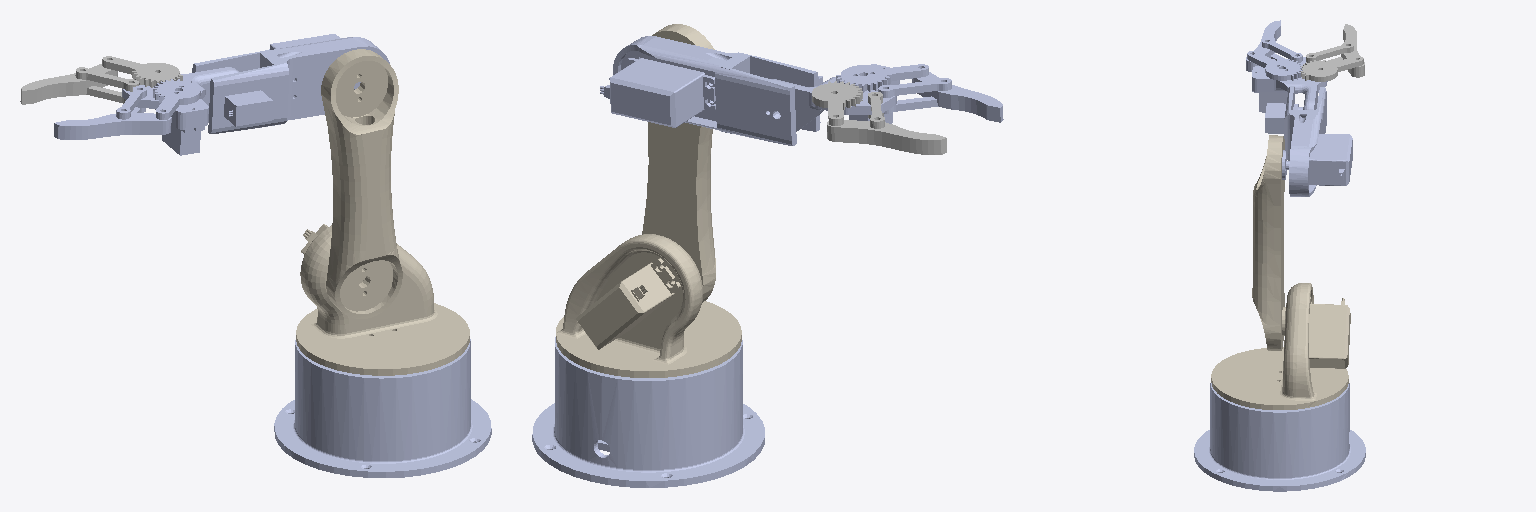
robot.urdf — roboticarm_desc:
<?xml version="1.0" encoding="utf-8"?>
<!-- This URDF was automatically created by SolidWorks to URDF Exporter! Originally created by Stephen Brawner (brawner@gmail.com) 
     Commit Version: 1.6.0-4-g7f85cfe  Build Version: 1.6.7995.38578
     For more information, please see http://wiki.ros.org/sw_urdf_exporter -->
<robot
  name="roboticarm_desc">
  <link
    name="base_link">
    <inertial>
      <origin
        xyz="-1.74565115521112E-08 0.000952884303413011 0.0221505545989223"
        rpy="0 0 0" />
      <mass
        value="0.0946962180846406" />
      <inertia
        ixx="0.000135059011662809"
        ixy="-3.74631591816118E-11"
        ixz="-1.84579557269977E-12"
        iyy="0.000128557317669127"
        iyz="3.85016392647366E-06"
        izz="0.000205655215325431" />
    </inertial>
    <visual>
      <origin
        xyz="0 0 0"
        rpy="0 0 0" />
      <geometry>
        <mesh
          filename="package://roboticarm_desc/meshes/base_link.STL" />
      </geometry>
      <material
        name="">
        <color
          rgba="0.792156862745098 0.819607843137255 0.933333333333333 1" />
      </material>
    </visual>
    <collision>
      <origin
        xyz="0 0 0"
        rpy="0 0 0" />
      <geometry>
        <mesh
          filename="package://roboticarm_desc/meshes/base_link.STL" />
      </geometry>
    </collision>
  </link>
  <link
    name="link_1">
    <inertial>
      <origin
        xyz="0.000831323898337343 0.00454672482986223 0.00190351834728859"
        rpy="0 0 0" />
      <mass
        value="2.066908638872" />
      <inertia
        ixx="5.93109549248364E-05"
        ixy="-6.73127407715459E-06"
        ixz="-5.80295277136355E-07"
        iyy="6.52041562002642E-05"
        iyz="-6.58179347262941E-06"
        izz="7.27757911682154E-05" />
    </inertial>
    <visual>
      <origin
        xyz="0 0 0"
        rpy="0 0 0" />
      <geometry>
        <mesh
          filename="package://roboticarm_desc/meshes/link_1.STL" />
      </geometry>
      <material
        name="">
        <color
          rgba="0.843137254901961 0.815686274509804 0.752941176470588 1" />
      </material>
    </visual>
    <collision>
      <origin
        xyz="0 0 0"
        rpy="0 0 0" />
      <geometry>
        <mesh
          filename="package://roboticarm_desc/meshes/link_1.STL" />
      </geometry>
    </collision>
  </link>
  <joint
    name="joint_1"
    type="revolute">
    <origin
      xyz="0 0 0.0574"
      rpy="1.5708 0 3.0761" />
    <parent
      link="base_link" />
    <child
      link="link_1" />
    <axis
      xyz="0 1 0" />
    <limit
      lower="-3.142"
      upper="3.142"
      effort="300"
      velocity="3" />
  </joint>
  <link
    name="link_2">
    <inertial>
      <origin
        xyz="-0.00230701090313169 0.025152631684603 -0.0370544089765316"
        rpy="0 0 0" />
      <mass
        value="0.0985691492518185" />
      <inertia
        ixx="0.000113580940734067"
        ixy="1.95408708762653E-07"
        ixz="1.85894731817726E-06"
        iyy="0.000116780844668397"
        iyz="-2.45203634952698E-07"
        izz="1.70145460046509E-05" />
    </inertial>
    <visual>
      <origin
        xyz="0 0 0"
        rpy="0 0 0" />
      <geometry>
        <mesh
          filename="package://roboticarm_desc/meshes/link_2.STL" />
      </geometry>
      <material
        name="">
        <color
          rgba="0.843137254901961 0.815686274509804 0.752941176470588 1" />
      </material>
    </visual>
    <collision>
      <origin
        xyz="0 0 0"
        rpy="0 0 0" />
      <geometry>
        <mesh
          filename="package://roboticarm_desc/meshes/link_2.STL" />
      </geometry>
    </collision>
  </link>
  <joint
    name="joint_2"
    type="revolute">
    <origin
      xyz="0.01391 0.04028 -0.02"
      rpy="1.5708 0 -0.026125" />
    <parent
      link="link_1" />
    <child
      link="link_2" />
    <axis
      xyz="0 -1 0" />
    <limit
      lower="-1.57"
      upper="1.57"
      effort="200"
      velocity="3" />
  </joint>
  <link
    name="link_3">
    <inertial>
      <origin
        xyz="0.0119274145245473 0.0281765061774894 4.69192763711268E-05"
        rpy="0 0 0" />
      <mass
        value="0.0714902683975526" />
      <inertia
        ixx="1.30083784905906E-05"
        ixy="5.89357510363436E-07"
        ixz="-5.2024675595863E-08"
        iyy="4.65154633143084E-05"
        iyz="-2.68276088899909E-09"
        izz="4.70864710905405E-05" />
    </inertial>
    <visual>
      <origin
        xyz="0 0 0"
        rpy="0 0 0" />
      <geometry>
        <mesh
          filename="package://roboticarm_desc/meshes/link_3.STL" />
      </geometry>
      <material
        name="">
        <color
          rgba="0.792156862745098 0.819607843137255 0.933333333333333 1" />
      </material>
    </visual>
    <collision>
      <origin
        xyz="0 0 0"
        rpy="0 0 0" />
      <geometry>
        <mesh
          filename="package://roboticarm_desc/meshes/link_3.STL" />
      </geometry>
    </collision>
  </link>
  <joint
    name="joint_3"
    type="revolute">
    <origin
      xyz="0.010223 0.0684 -0.12074"
      rpy="-3.1416 0.072029 0" />
    <parent
      link="link_2" />
    <child
      link="link_3" />
    <axis
      xyz="0 1 0" />
    <limit
      lower="-1.5708"
      upper="1.5708"
      effort="200"
      velocity="3" />
  </joint>
  <link
    name="link_4">
    <inertial>
      <origin
        xyz="0.00844737677424334 0.00467043133983275 0.0170044090379459"
        rpy="0 0 0" />
      <mass
        value="0.0238931999541876" />
      <inertia
        ixx="7.60188798036556E-06"
        ixy="-4.14365108627786E-07"
        ixz="-1.933109545339E-06"
        iyy="1.02338809467779E-05"
        iyz="-1.31602817133816E-06"
        izz="4.29933795885179E-06" />
    </inertial>
    <visual>
      <origin
        xyz="0 0 0"
        rpy="0 0 0" />
      <geometry>
        <mesh
          filename="package://roboticarm_desc/meshes/link_4.STL" />
      </geometry>
      <material
        name="">
        <color
          rgba="0.792156862745098 0.819607843137255 0.933333333333333 1" />
      </material>
    </visual>
    <collision>
      <origin
        xyz="0 0 0"
        rpy="0 0 0" />
      <geometry>
        <mesh
          filename="package://roboticarm_desc/meshes/link_4.STL" />
      </geometry>
    </collision>
  </link>
  <joint
    name="joint_4"
    type="revolute">
    <origin
      xyz="0.06545 0.04032 -5.0936E-05"
      rpy="1.5789 0 1.5708" />
    <parent
      link="link_3" />
    <child
      link="link_4" />
    <axis
      xyz="-1 0 0" />
    <limit
      lower="-1.5708"
      upper="1.5708"
      effort="200"
      velocity="3" />
  </joint>
  <link
    name="link_5">
    <inertial>
      <origin
        xyz="0.00542306221289153 0.00795132738028109 0.0600915122440204"
        rpy="0 0 0" />
      <mass
        value="0.0254298960035312" />
      <inertia
        ixx="4.14565743139581E-06"
        ixy="3.68124037871294E-08"
        ixz="5.47871667594063E-08"
        iyy="4.99730356018642E-06"
        iyz="-5.7311094331318E-15"
        izz="1.73159733678277E-06" />
    </inertial>
    <visual>
      <origin xyz="0 0 -0.04" rpy="0 0 0"/>
      <geometry>
        <mesh
          filename="package://roboticarm_desc/meshes/link_5.STL" />
      </geometry>
      <material
        name="">
        <color
          rgba="0.792156862745098 0.819607843137255 0.933333333333333 1" />
      </material>
    </visual>
    <collision>
      <origin xyz="0 0 -0.04" rpy="0 0 0"/>
      <geometry>
        <mesh
          filename="package://roboticarm_desc/meshes/link_5.STL" />
      </geometry>
    </collision>
  </link>
  <joint
    name="joint_5"
    type="revolute">
    <origin xyz="0 0 0.04" rpy="0 0 0"/>
    <parent
      link="link_4" />
    <child
      link="link_5" />
    <axis
      xyz="0 1 0" />
    <limit lower="0" upper="0.543" effort="200" velocity="2"/>
  </joint>
  <link name="link_6">
    <inertial>
      <origin xyz="0 0 0" rpy="0 0 0"/>
      <mass value="0.02"/>
      <inertia ixx="1e-5" iyy="1e-5" izz="1e-5"
              ixy="0" ixz="0" iyz="0"/>
    </inertial>

    <visual>
      <origin xyz="0 0 -0.04" rpy="0 0 0"/>
      <geometry>
        <mesh filename="package://roboticarm_desc/meshes/link_6.STL"/>
      </geometry>
      <material name="">
        <color rgba="0.8 0.8 0.8 1"/>
      </material>
    </visual>

    <collision>
      <origin xyz="0 0 -0.04" rpy="0 0 0"/>
      <geometry>
        <mesh filename="package://roboticarm_desc/meshes/link_6.STL"/>
      </geometry>
    </collision>
  </link>
  <joint name="joint_6" type="revolute">
    <origin xyz="0 0 0.04" rpy="0 0 0"/>
    <parent link="link_4"/>
    <child link="link_6"/>
    <axis xyz="0 1 0"/>
    <limit lower="-1.57" upper="1.57" effort="100" velocity="2"/>
  </joint>

  <link name="tcp_link"/>

  <joint name="tcp_joint" type="fixed">
    <parent link="link_4"/>
    <child link="tcp_link"/>
    <origin xyz="0 0 0.09" rpy="0 0 0"/>
  </joint>


  <ros2_control name="MyRobotSystem" type="system">
  <hardware>
    <plugin>gz_ros2_control/GazeboSystem</plugin>
  </hardware>

  <joint name="joint_1">
    <command_interface name="position"/>
    <state_interface name="position"/>
  </joint>

  <joint name="joint_2">
    <command_interface name="position"/>
    <state_interface name="position"/>
  </joint>

  <joint name="joint_3">
    <command_interface name="position"/>
    <state_interface name="position"/>
  </joint>

  <joint name="joint_4">
    <command_interface name="position"/>
    <state_interface name="position"/>
  </joint>

  <joint name="joint_5">
    <command_interface name="position"/>
    <state_interface name="position"/>
  </joint>

  
  <joint name="joint_6">
    <state_interface name="position"/>
  </joint>

  </ros2_control> 


</robot>

--- Facts derived from the render (not from the file) ---
The picture shows the robot from 3 angles, left to right: view 1: azimuth 30°, elevation 25°; view 2: azimuth 150°, elevation 25°; view 3: azimuth 270°, elevation 25°; orthographic projection.
Model roboticarm_desc with 8 links and 7 joints (6 revolute, 1 fixed), rooted at base_link, posed every joint at zero.
Visible links, largest first — view 1: base_link, link_2, link_1, link_3, link_5, link_6, link_4; view 2: base_link, link_3, link_1, link_2, link_5, link_6, link_4; view 3: base_link, link_2, link_1, link_3, link_5, link_6, link_4.
Boxes of the visible links, x1,y1,x2,y2 form: base_link: (274, 339, 491, 477); link_2: (301, 49, 402, 318); link_1: (296, 225, 469, 375); link_3: (192, 34, 389, 133); link_5: (54, 79, 204, 155); link_6: (20, 56, 182, 104); link_4: (122, 67, 272, 129); base_link: (532, 337, 764, 487); link_3: (600, 36, 820, 145); link_1: (556, 234, 741, 377); link_2: (576, 24, 715, 349); link_5: (836, 64, 1003, 123); link_6: (812, 81, 946, 154); link_4: (771, 64, 899, 131); base_link: (1194, 383, 1365, 491); link_2: (1252, 135, 1350, 368); link_1: (1211, 283, 1348, 409); link_3: (1282, 86, 1352, 196); link_5: (1246, 20, 1302, 112); link_6: (1300, 24, 1364, 81); link_4: (1252, 57, 1327, 133).
Size in the robot's own frame: 0.2723 by 0.1213 by 0.2422 metres.
Meshes: 7 distinct files referenced, 7 mesh visuals loaded (7 binary STL).
